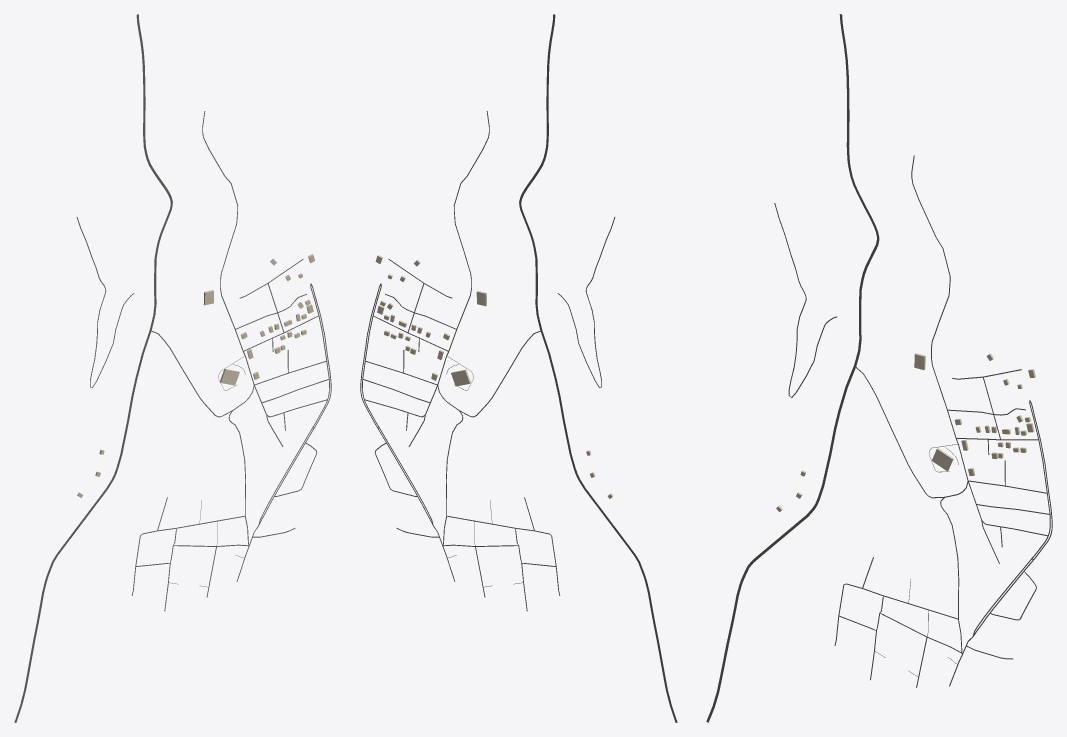
Rendered from karak_3570_3116.glb.
The picture shows the model from 3 angles, left to right: view 1: azimuth 30°, elevation 25°; view 2: azimuth 150°, elevation 25°; view 3: azimuth 330°, elevation 25°; orthographic projection. The views are drawn at different scales.
Visible parts, largest first — view 1: Road طريق الملك, Road; view 2: Road طريق الملك, Road; view 3: Road طريق الملك, Road.
Part boxes in pixels (box(x1,y1,x2,y2)): Road طريق الملك: box(14, 14, 172, 722); Road: box(150, 111, 254, 417); Road طريق الملك: box(519, 14, 677, 722); Road: box(437, 111, 540, 417); Road طريق الملك: box(706, 14, 879, 722); Road: box(855, 155, 968, 498).
Size of the model in its own units: 1163 by 2378 by 8.7.
